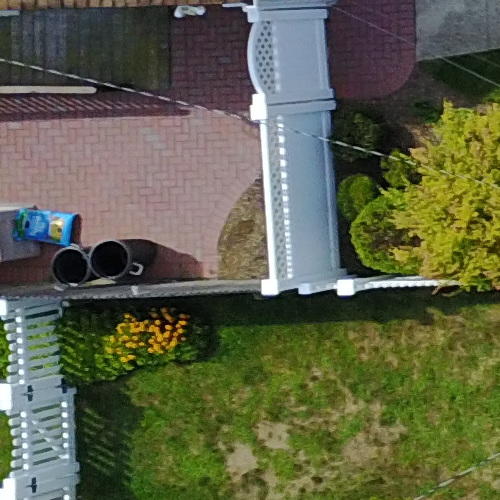trash bin: (43, 228, 107, 294), (89, 224, 157, 282)
